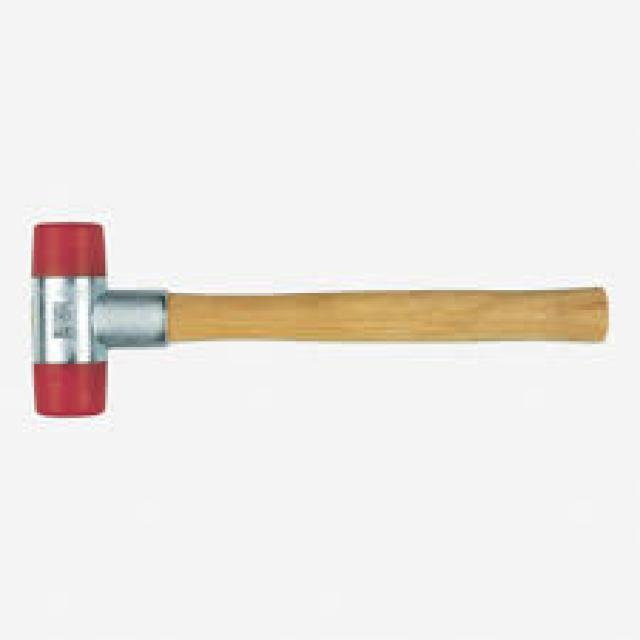Palu: (33, 191, 599, 422)
